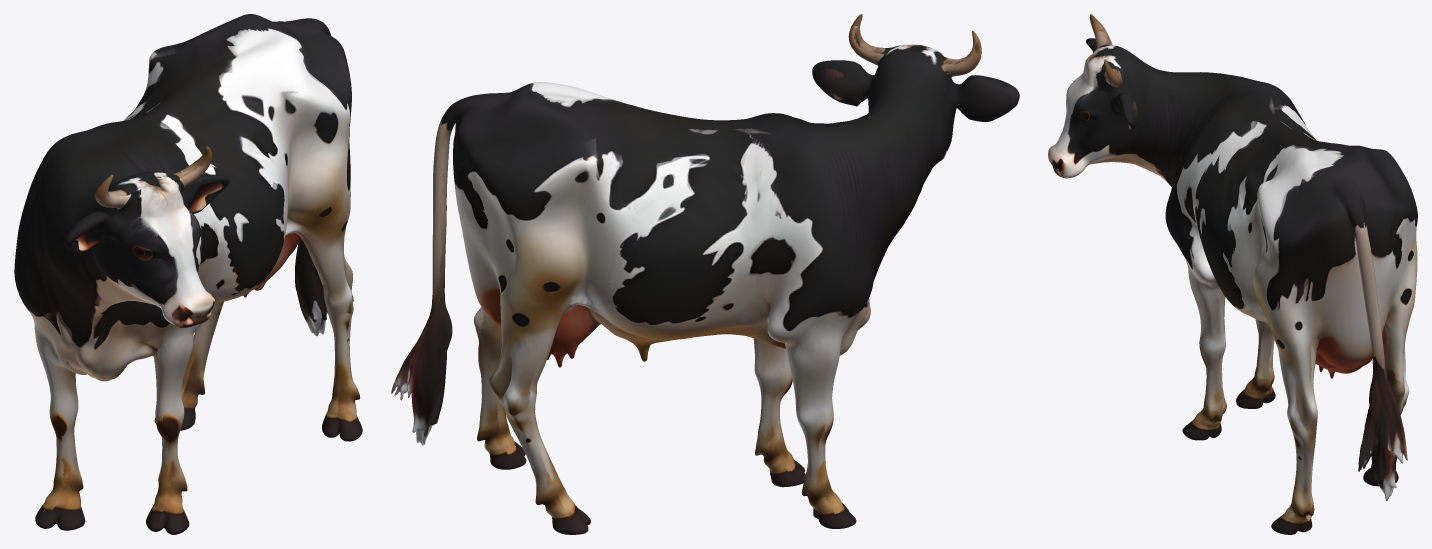
The model's file is cow.glb.
3 views of the same model, side by side, from view 1: azimuth 30°, elevation 25°; view 2: azimuth 150°, elevation 25°; view 3: azimuth 270°, elevation 25° (orthographic). The views are drawn at different scales.
Parts seen in each view (by area): view 1: mesh_uvwarp.003_0; view 2: mesh_uvwarp.003_0; view 3: mesh_uvwarp.003_0.
Boxes of the visible parts, x1,y1,x2,y2 form: mesh_uvwarp.003_0: (14, 14, 362, 534); mesh_uvwarp.003_0: (391, 14, 1019, 534); mesh_uvwarp.003_0: (1048, 14, 1417, 534).
Bounding box in the file's own units: 1.99 × 1.85 × 1.67.
Materials: 1 (1 with a texture image).
